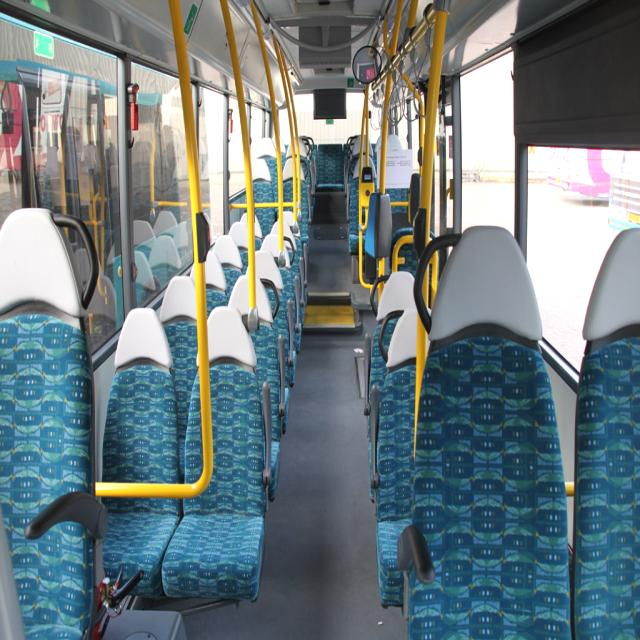asiento-libre: (390, 230, 567, 634), (1, 209, 105, 630), (158, 305, 270, 602), (572, 234, 640, 634), (95, 315, 187, 598), (158, 263, 228, 470), (222, 257, 282, 482), (265, 224, 305, 375), (245, 140, 289, 242), (347, 142, 379, 260), (381, 133, 413, 218), (249, 158, 279, 241), (286, 152, 312, 242), (317, 143, 345, 192), (229, 221, 247, 275), (299, 142, 317, 195)
